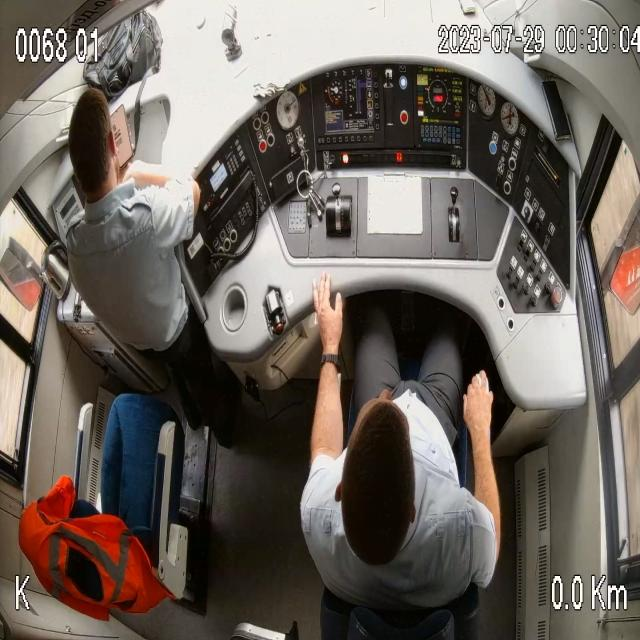smartphone: (106, 103, 134, 172)
